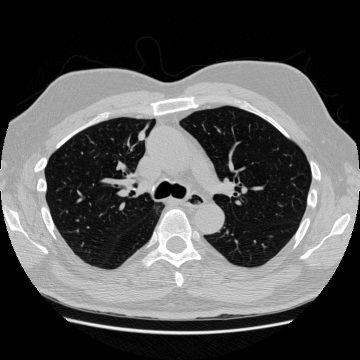nodule: (136, 130, 146, 140)
